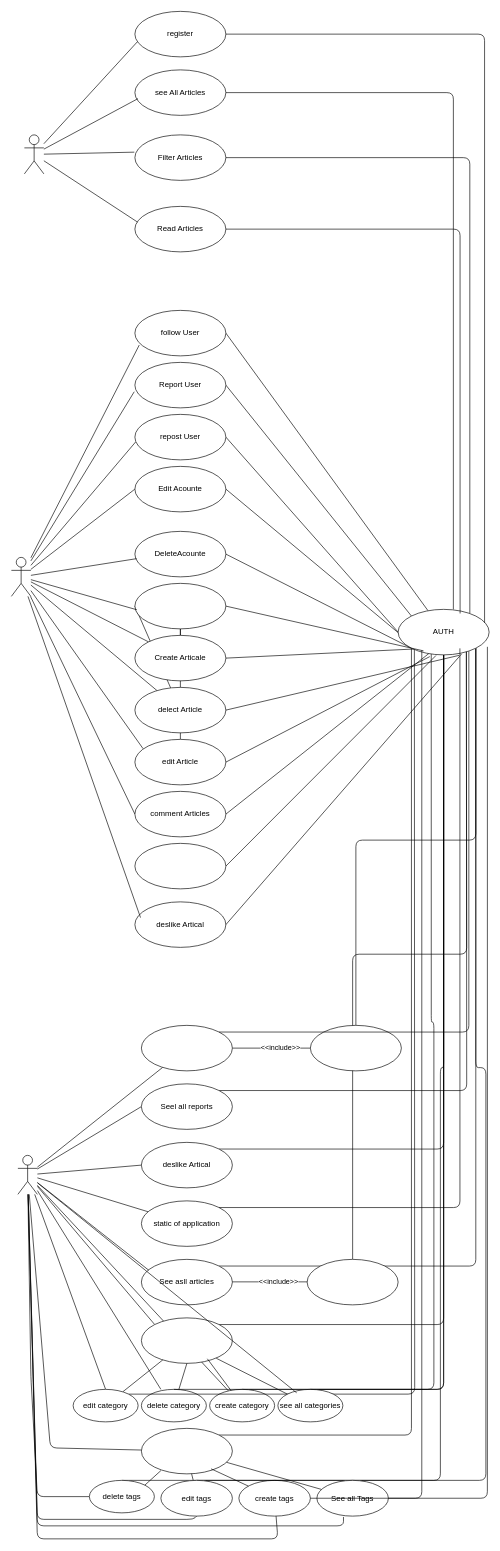
This 500x1551 diagram has some shape labels left out. Each missing label, with the box of its shape:
Admin: (17, 1155, 37, 1194)
band articles: (306, 1259, 398, 1305)
band user: (310, 1025, 401, 1071)
crud Articles: (134, 583, 226, 629)
Crud categories: (141, 1317, 232, 1363)
Crud tags: (141, 1428, 232, 1474)
Gust: (24, 134, 44, 174)
like Article: (134, 843, 226, 889)
Sell all users: (141, 1025, 232, 1071)
User: (11, 557, 31, 596)
